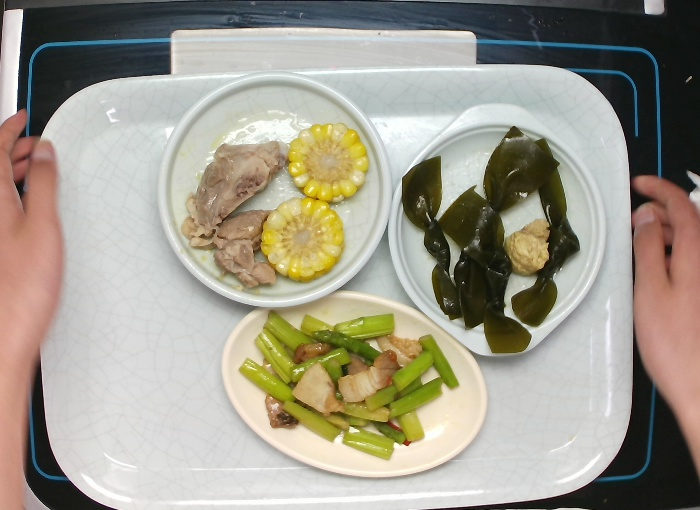JYsf-Shuang_Er_Pan: (382, 96, 607, 365)
JYsf-Tuo_Yuan_Wan: (213, 286, 491, 484)
JYsf-Xiao_Yuan_Pan: (155, 72, 397, 311)
